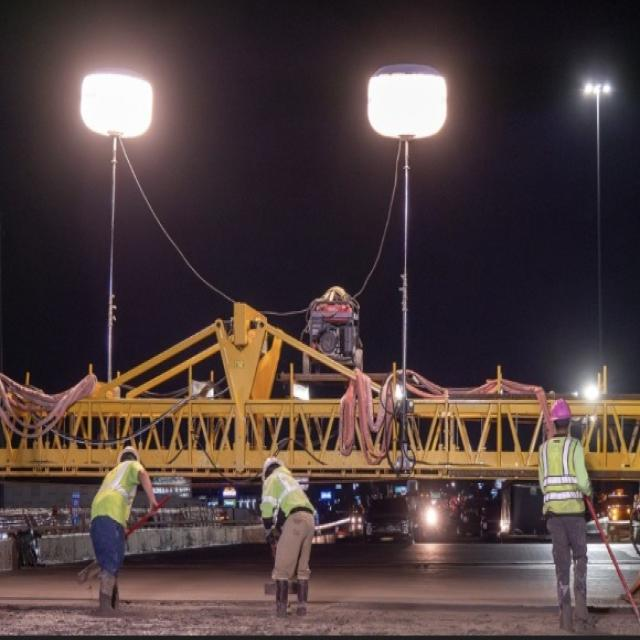boots: (577, 564, 613, 639), (89, 561, 135, 612), (552, 567, 572, 632), (266, 579, 290, 627), (293, 574, 319, 618)
helmet: (539, 395, 582, 441), (259, 452, 287, 483), (112, 442, 144, 464), (580, 397, 582, 399)
person: (510, 381, 628, 640), (235, 433, 354, 640), (73, 440, 191, 616)
vest: (529, 428, 603, 515), (88, 464, 157, 526), (250, 474, 318, 524)
